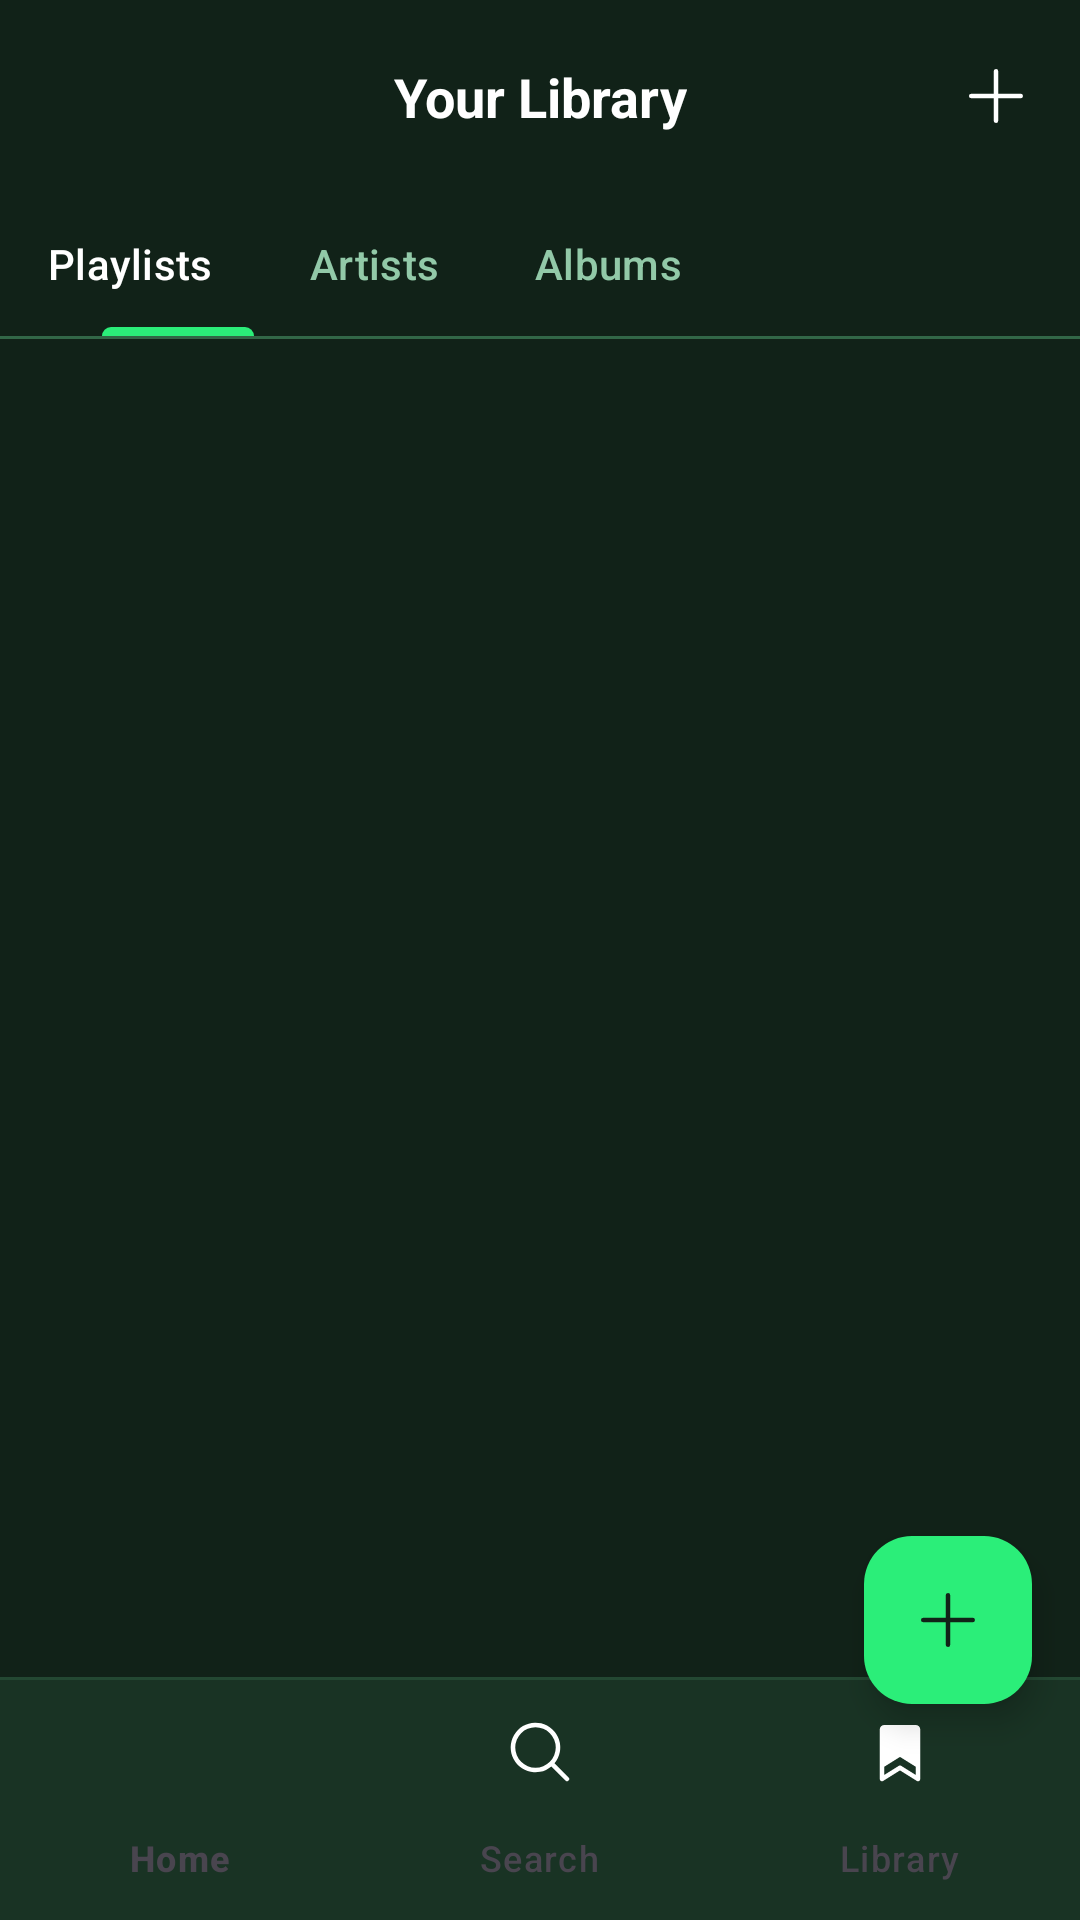

Icon click points for this 1080px x 1920px phone screenshot, format point (x, y):
plus: point (996, 96), point (948, 1620)
